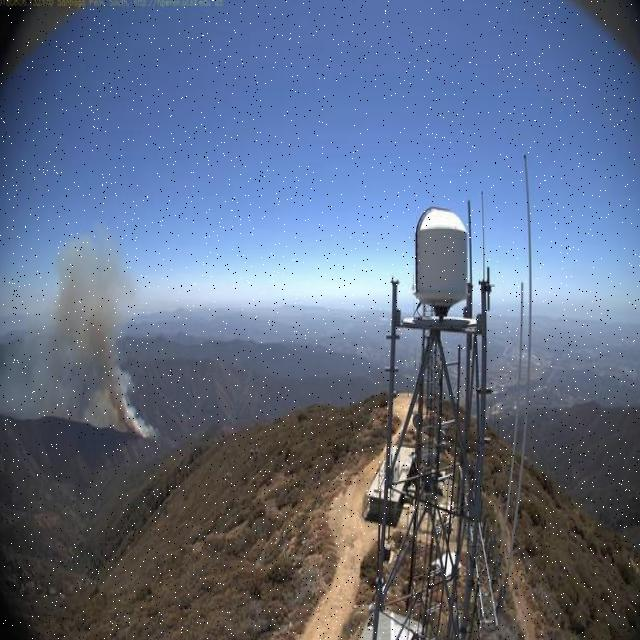smoke: (0, 231, 159, 445)
